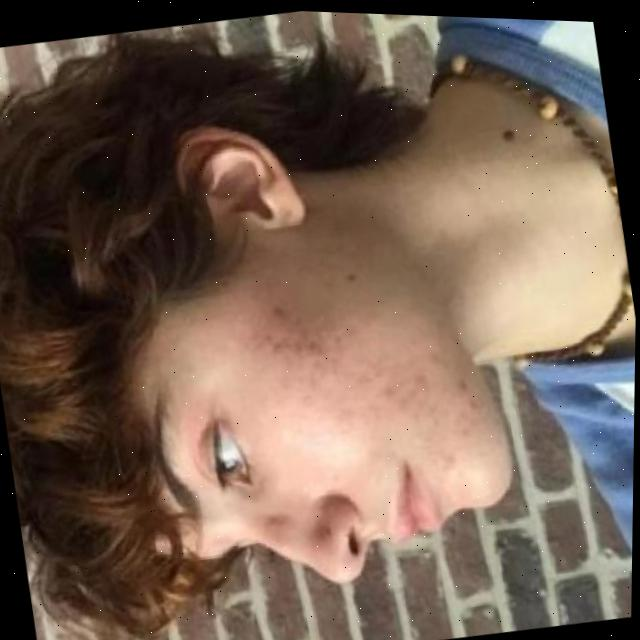Acne: (243, 253, 503, 488)
